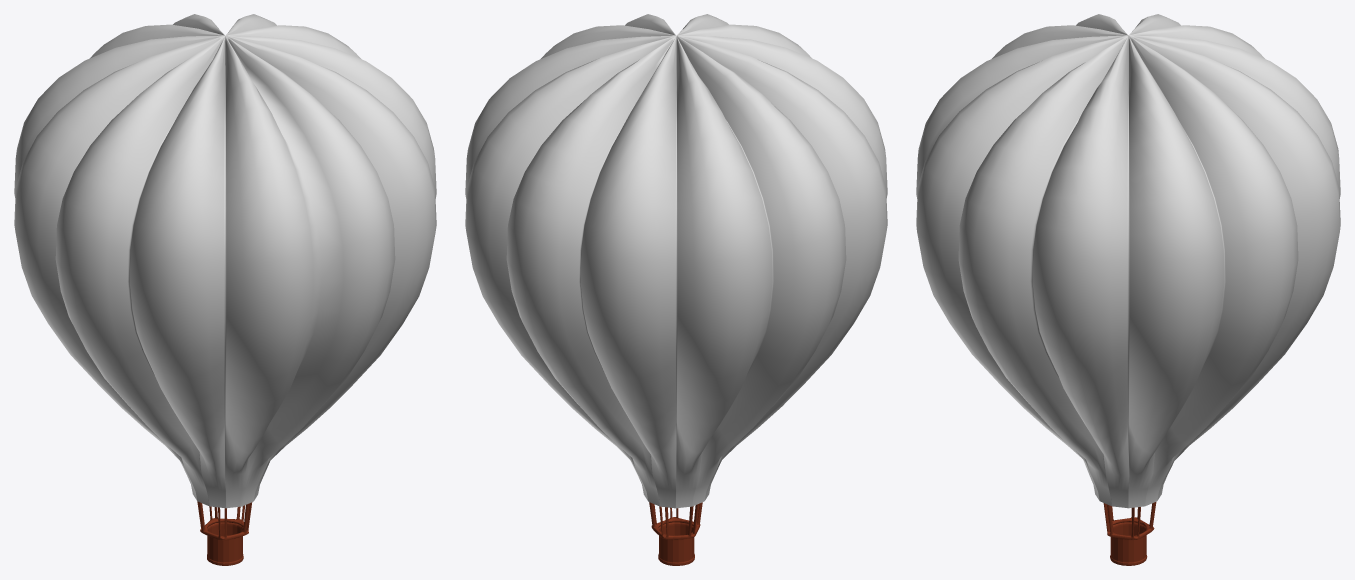
The model's file is uploads_files_729061_hotair_balloon.fbx.
The picture shows the model from 3 angles, left to right: view 1: azimuth 30°, elevation 25°; view 2: azimuth 150°, elevation 25°; view 3: azimuth 270°, elevation 25°; orthographic projection.
Parts seen in each view (by area): view 1: hotair, balloon_box; view 2: hotair, balloon_box; view 3: hotair, balloon_box.
Part boxes in pixels (x1,y1,x2,y2): hotair: (14, 14, 436, 508); balloon_box: (197, 501, 252, 565); hotair: (465, 14, 887, 508); balloon_box: (649, 502, 702, 565); hotair: (916, 14, 1340, 508); balloon_box: (1103, 502, 1156, 565).
Size of the model in its own units: 224 by 306 by 225.
